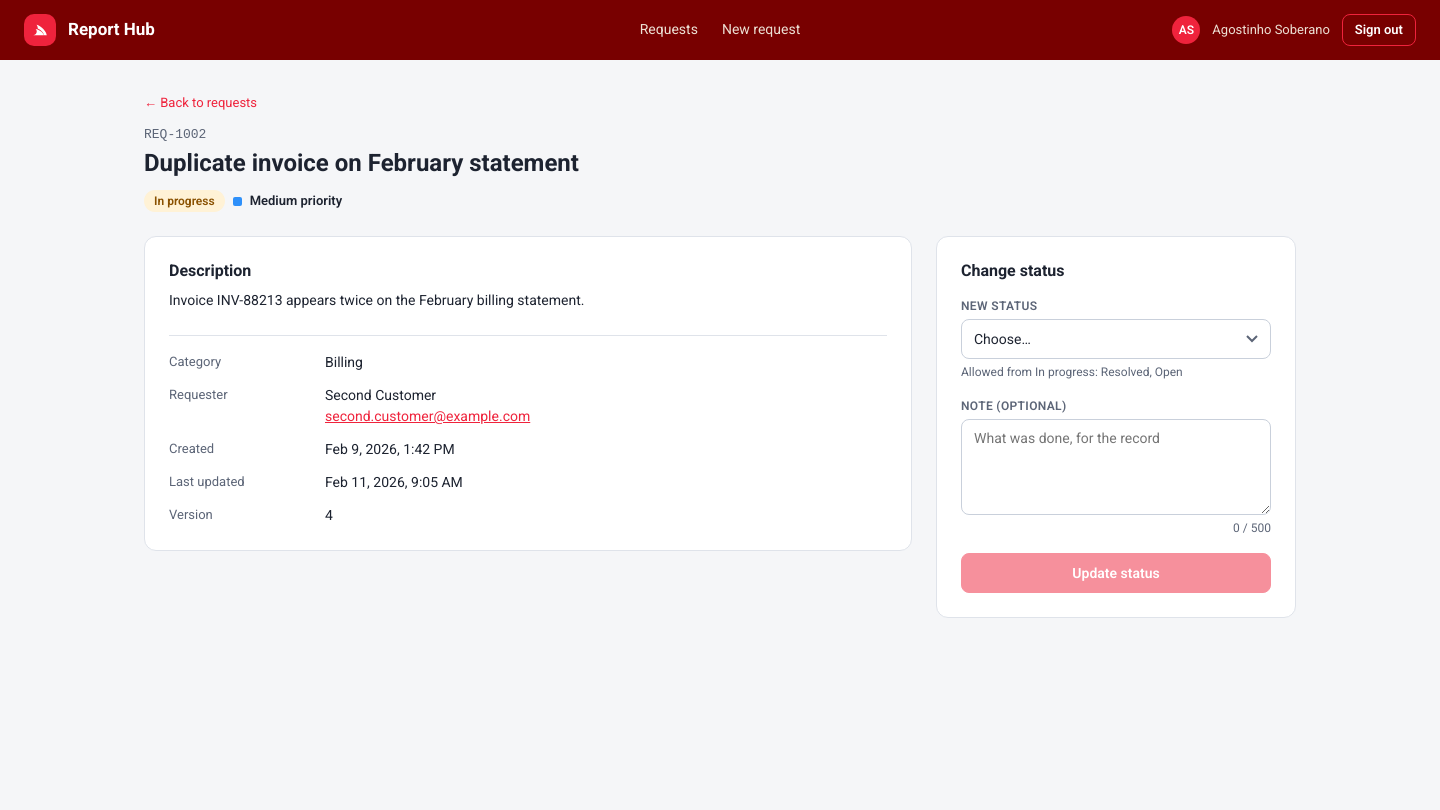
it: request detail and status change › offers only the allowed next statuses and saves the change
Check: the heading "Duplicate invoice on February statement" is shown, box [144,149,579,177]
Select "Resolved" in the dropdown labelled "New status". click: (1116, 339)
box: [961,319,1271,359]
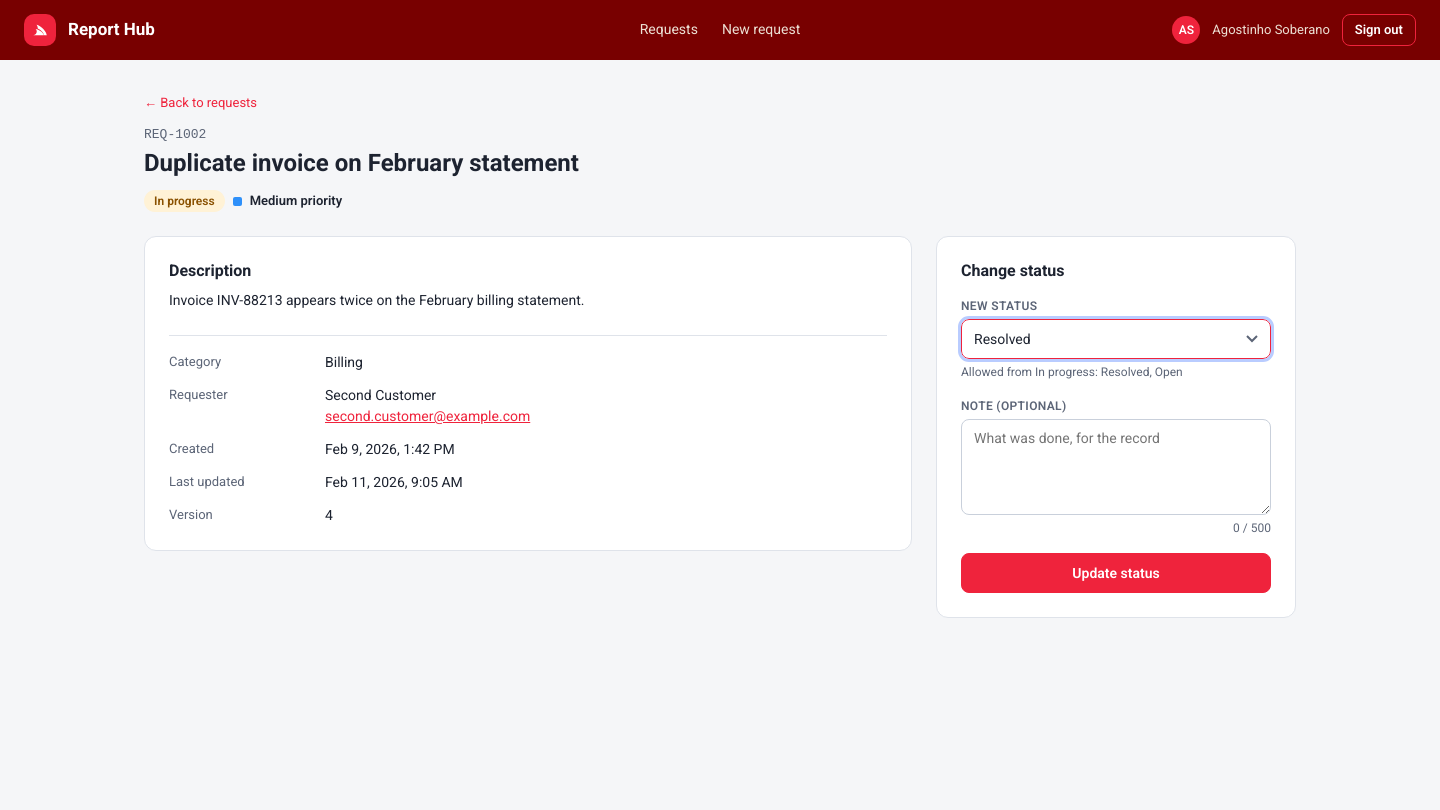
Type "Credit note issued." into the text box labelled "Note (optional)". click: (1116, 467)
box: [961,419,1271,515]
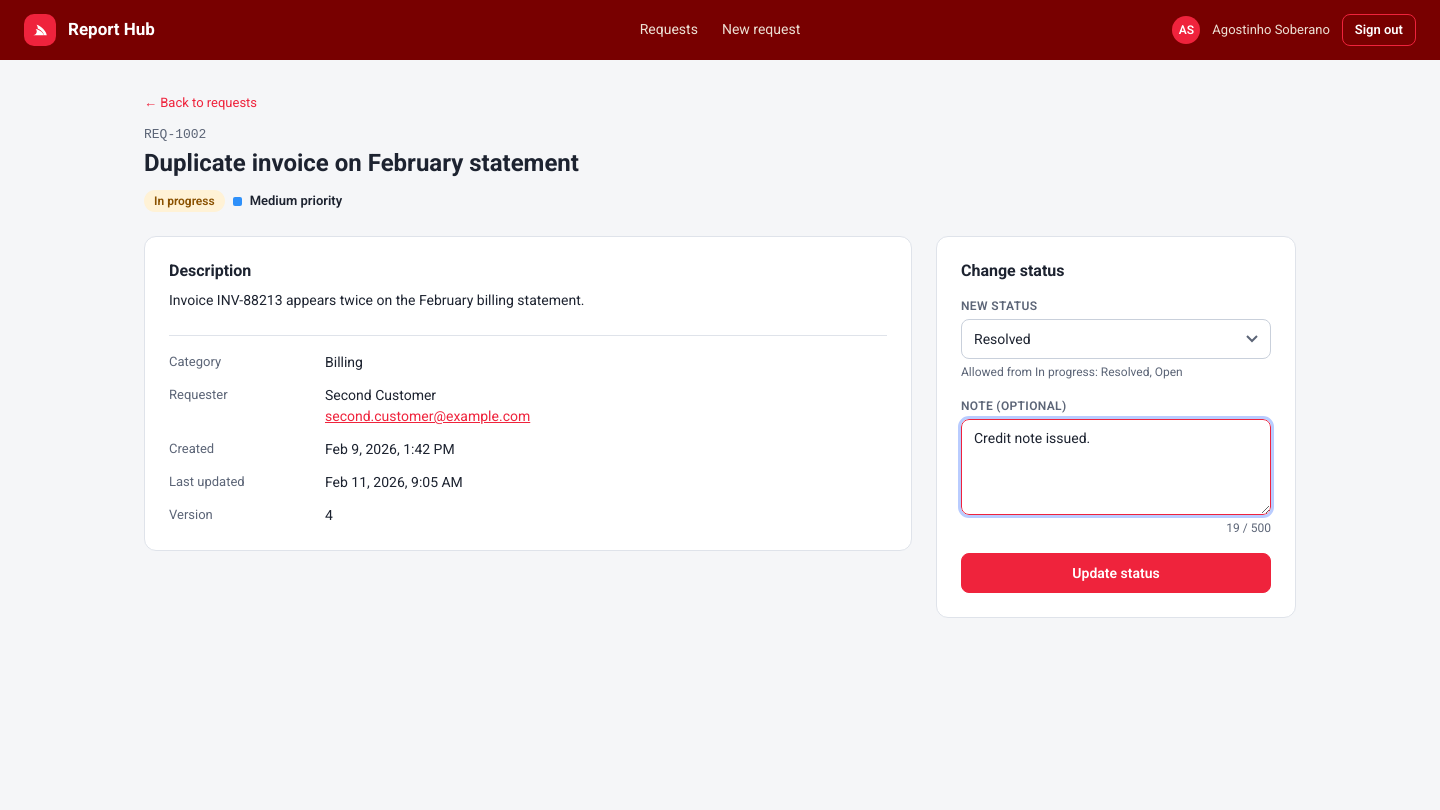
Click the button "Update status". click: (1116, 573)
box: [961,553,1271,593]
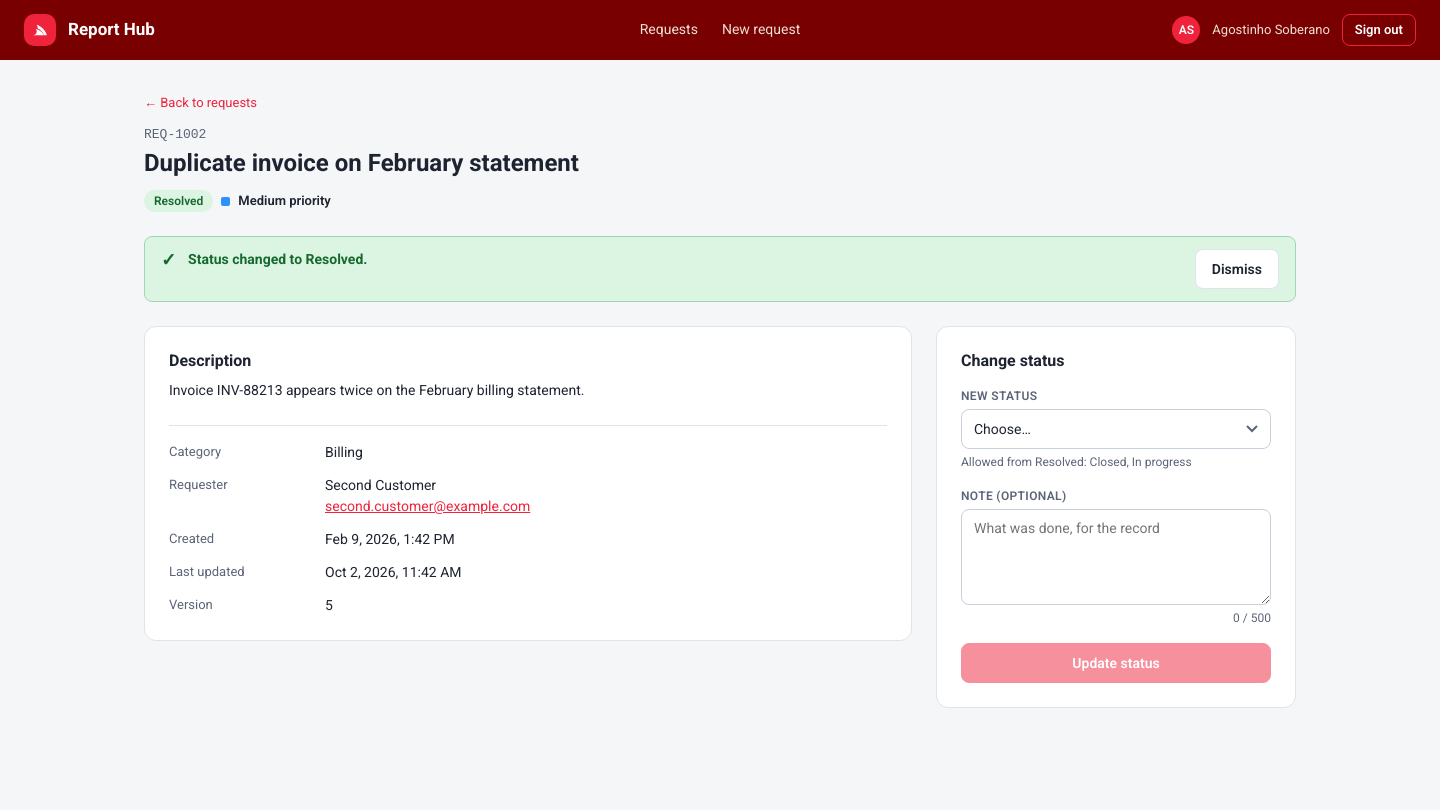
Check: the text "Status changed to Resolved." is shown, box [188,251,367,267]
